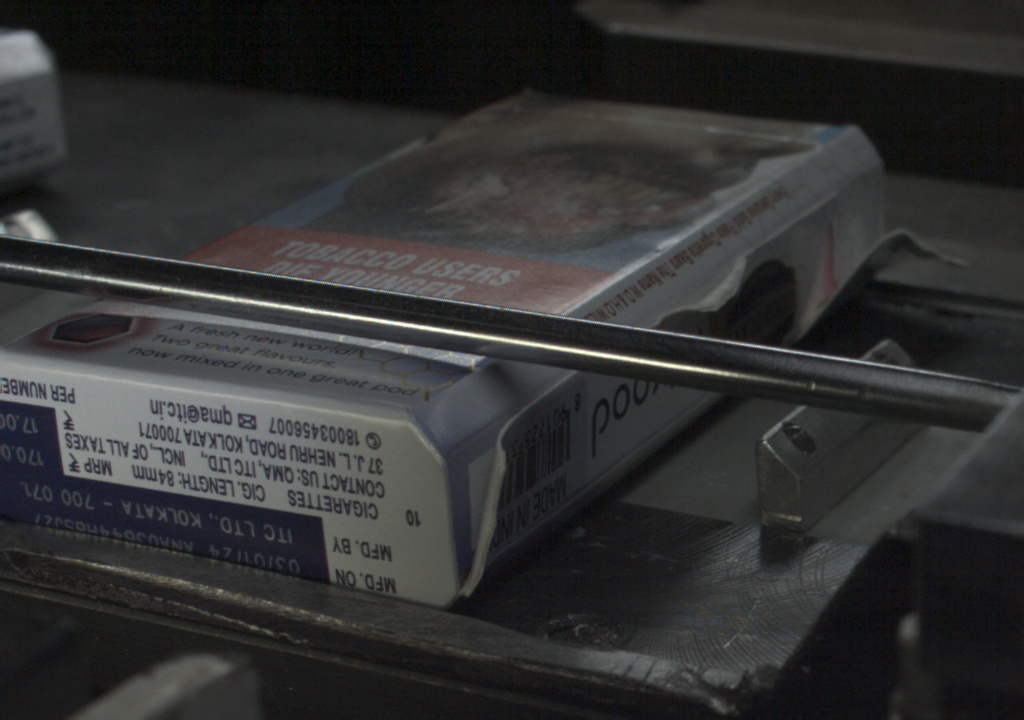g_bottom: (1, 362, 460, 609)
g_label: (3, 475, 328, 584)
ng_lmiter: (455, 417, 511, 601), (656, 249, 754, 319)
ng_miter: (849, 189, 910, 277)
